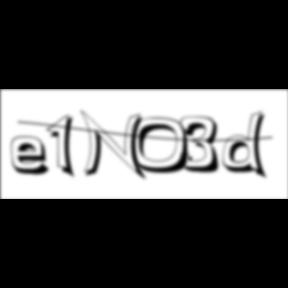1: (46, 114, 82, 182)
3: (180, 116, 226, 176)
N: (80, 109, 150, 183)
O: (132, 117, 196, 176)
d: (223, 110, 273, 182)
e: (11, 135, 57, 178)
